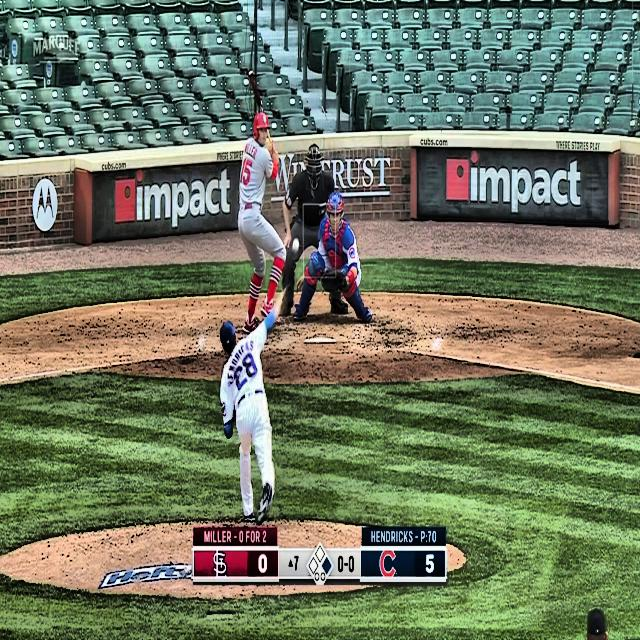baseball: (292, 238, 300, 254)
